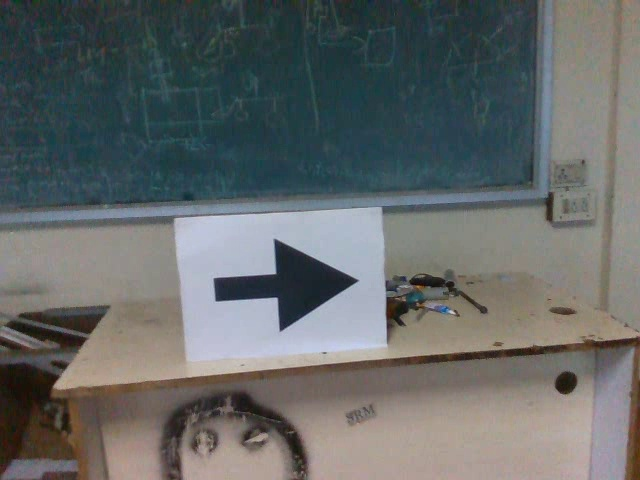Right: (203, 233, 363, 339)
